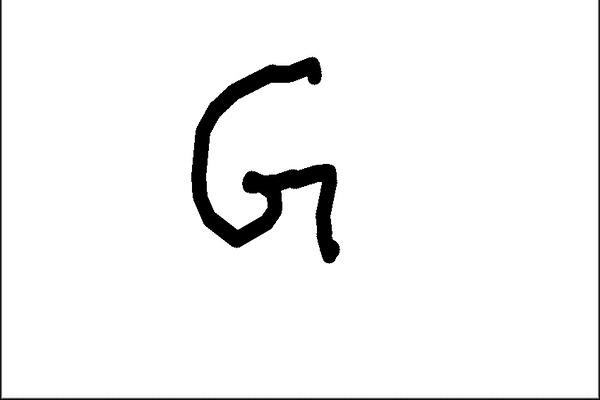G: (185, 51, 350, 268)
